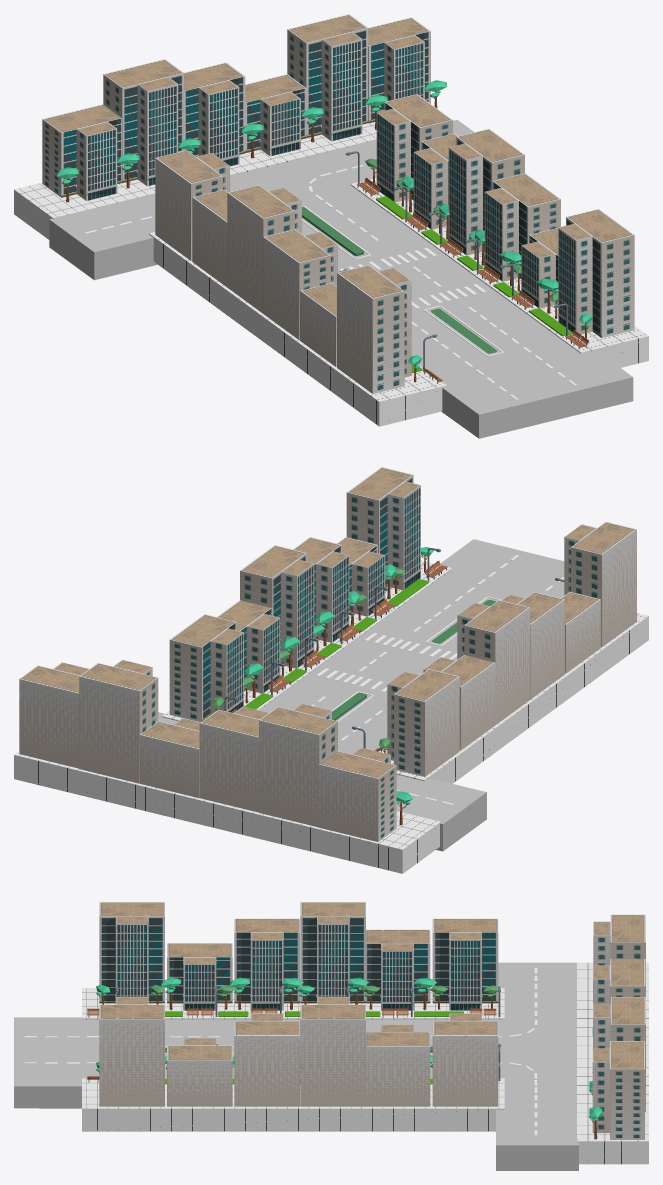
File: city_map.fbx
The picture shows the model from 3 angles, top to bottom: view 1: azimuth 30°, elevation 25°; view 2: azimuth 150°, elevation 25°; view 3: azimuth 270°, elevation 25°; orthographic projection. The views are drawn at different scales.
Visible parts, largest first — view 1: road, pCube96, Box0013, Box0024, Box0019, Box0014, Box0015, Box0025, Box002, Box0023, Box0017, pCube116 (+12 smaller); view 2: road, pCube116, Box0019, Box0014, Box0022, Box0012, Box0024, Box0015, Box0013, pCube96, Box0025, Box0016 (+10 smaller); view 3: road, pCube10, Box0013, Box002, Box0024, Box0025, Box0012, Box003, Box0022, Box0023, pCube116, Box001 (+8 smaller).
Part boxes in pixels (x1,y1,x2,y2): road: (49,119,633,438); pCube96: (149,232,447,426); Box0013: (558,209,634,337); Box0024: (337,265,411,393); Box0019: (287,14,368,141); Box0014: (103,59,184,186); Box0015: (42,104,121,200); Box0025: (227,185,301,313); Box002: (448,129,524,255); Box0023: (263,229,337,339); Box0017: (183,62,245,166); pCube116: (14,122,376,239); road: (158,539,564,851); pCube116: (14,751,440,873); Box0019: (79,660,158,783); Box0014: (259,703,337,826); Box0022: (387,669,459,776); Box0012: (169,614,243,722); Box0024: (564,522,636,647); Box0015: (318,747,396,841); Box0013: (346,467,420,590); pCube96: (378,613,648,783); Box0025: (457,600,529,724); Box0016: (19,662,88,768); road: (14,962,578,1170); pCube10: (82,1078,504,1131); Box0013: (99,997,164,1106); Box002: (300,997,365,1106); Box0024: (99,902,164,1003); Box0025: (300,902,365,1003); Box0012: (432,1013,498,1106); Box003: (234,1013,299,1106); Box0022: (432,918,498,1010); Box0023: (234,918,299,1010); pCube116: (577,962,648,1164); Box001: (364,1025,430,1106).
Size of the model in its own units: 6.16 by 1.79 by 9.05.
3 materials, 3 textured.
